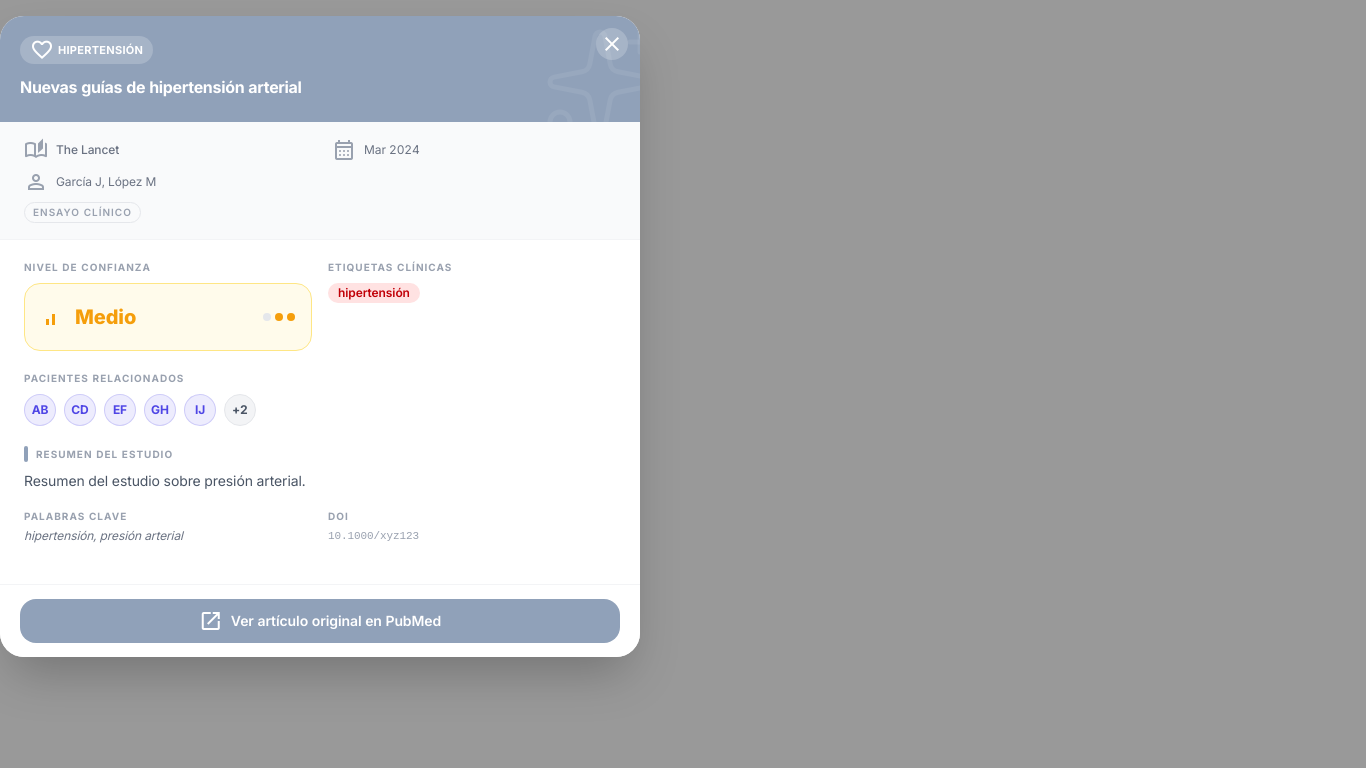
Test: ArticleDetailDrawer › related patients (doctor only) › expands the full patient list when "+N" is clicked
Click the button "+2".
click(240, 410)  # box [224,394,256,426]
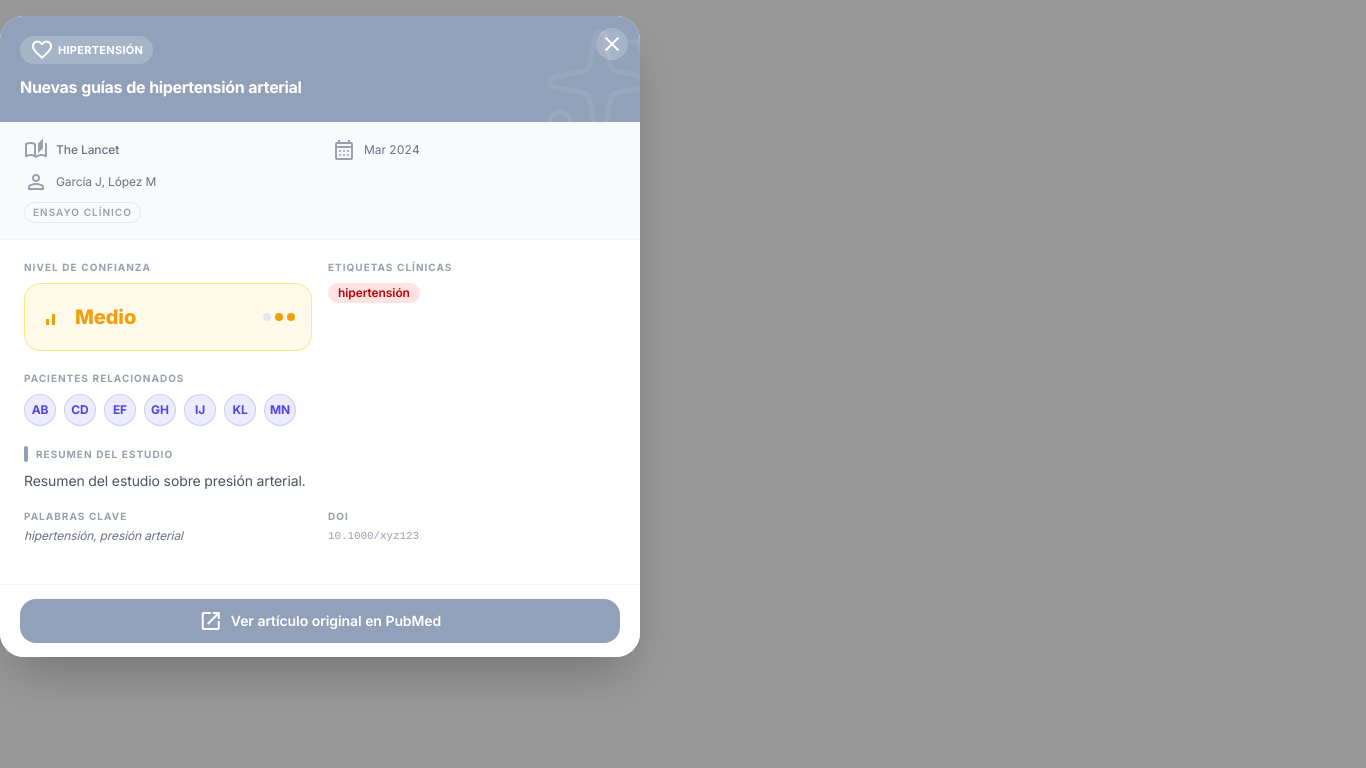
Expected: the link "KL" is shown, [224,394,256,426]
Expected: the link "MN" is shown, [264,394,296,426]
Expected: the button "+2" is gone
